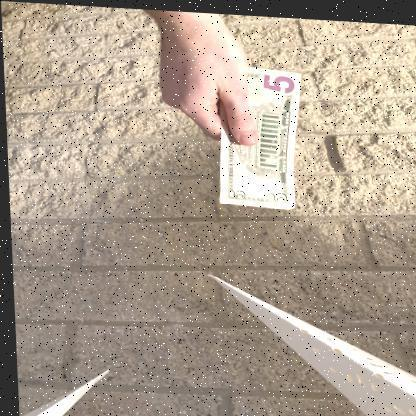five-back: (210, 61, 305, 206)
